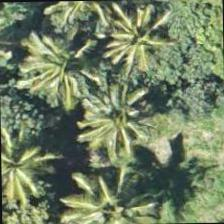Kelapa_Sawit: (94, 0, 187, 92), (52, 51, 144, 143), (21, 14, 113, 106), (55, 171, 148, 223), (0, 127, 53, 218)
